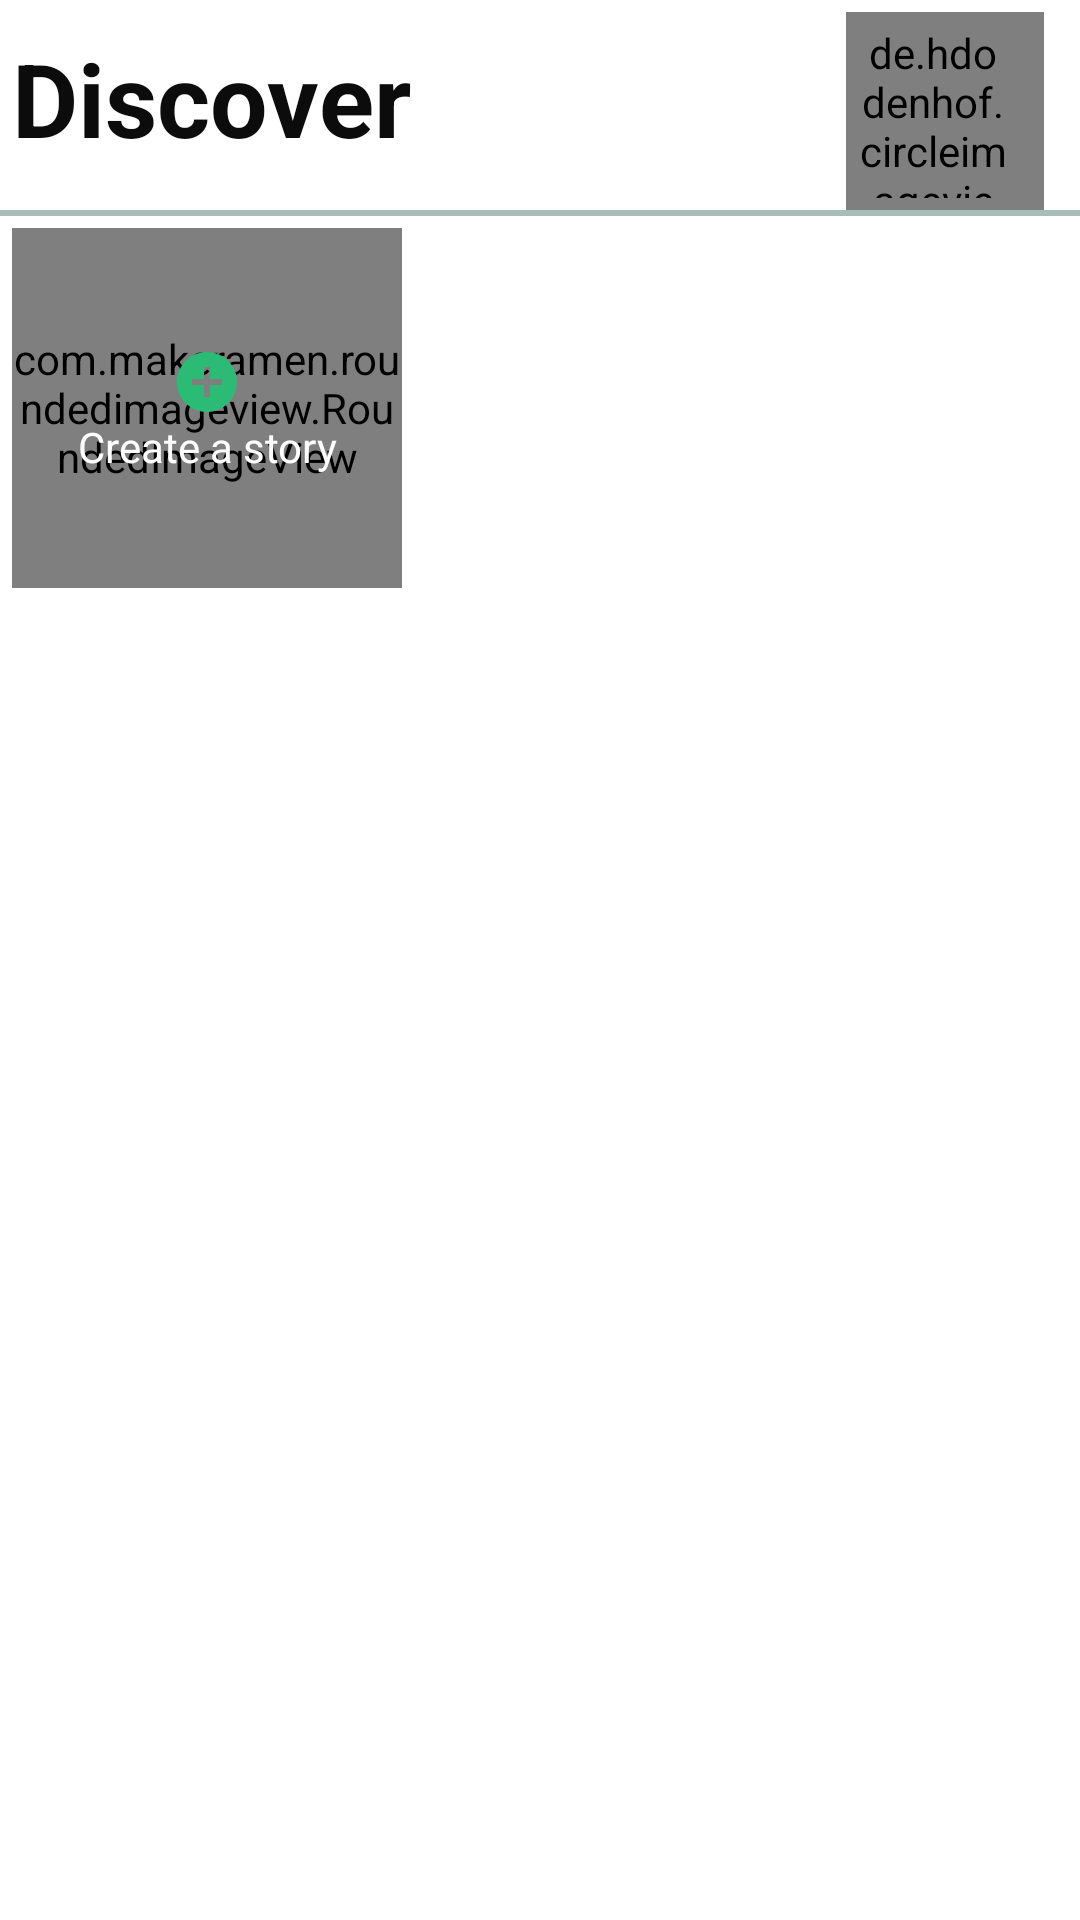

Screen size 1080×1920. Icon name, then its center in pixels as (x,y):
add circle: (207,382)
